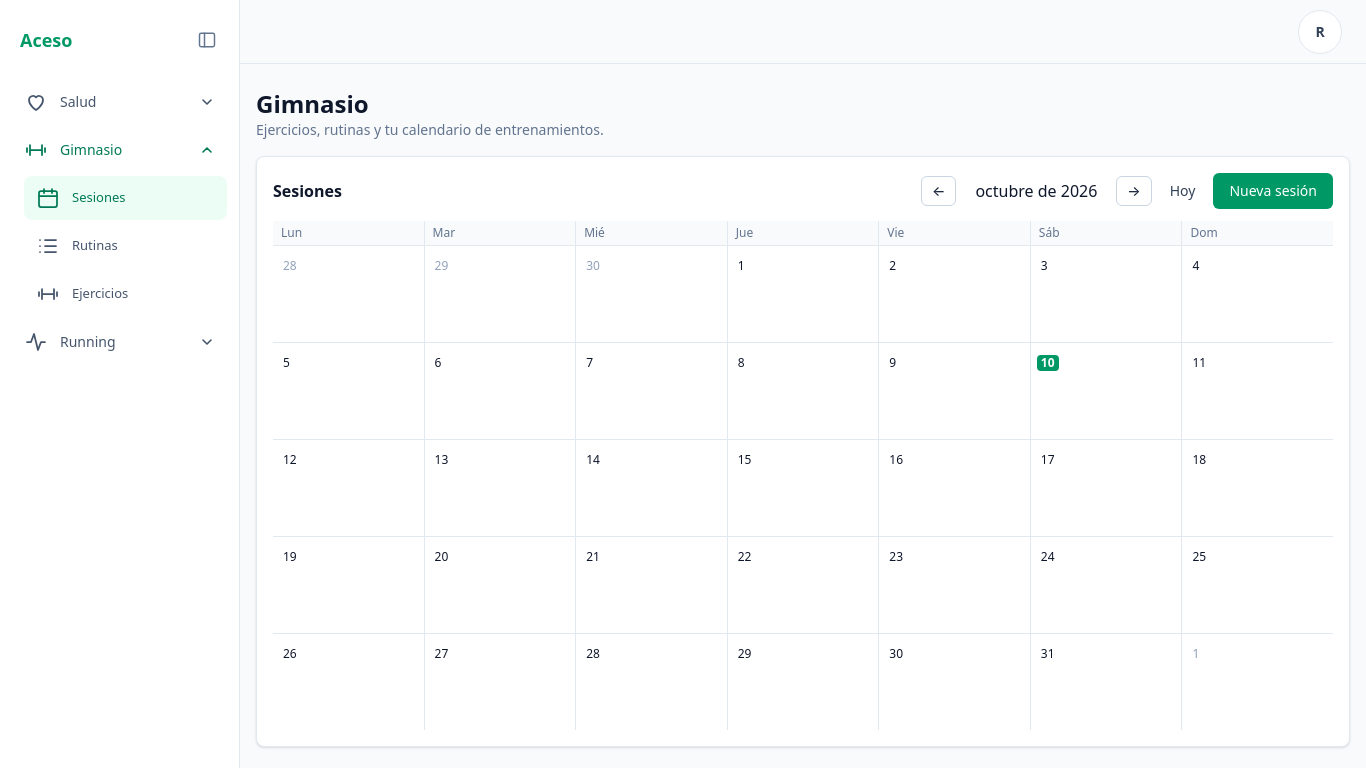
AppShell navigation › expands and collapses other section groups
Click the button "Running".
click(120, 342)  # box [12,320,227,364]
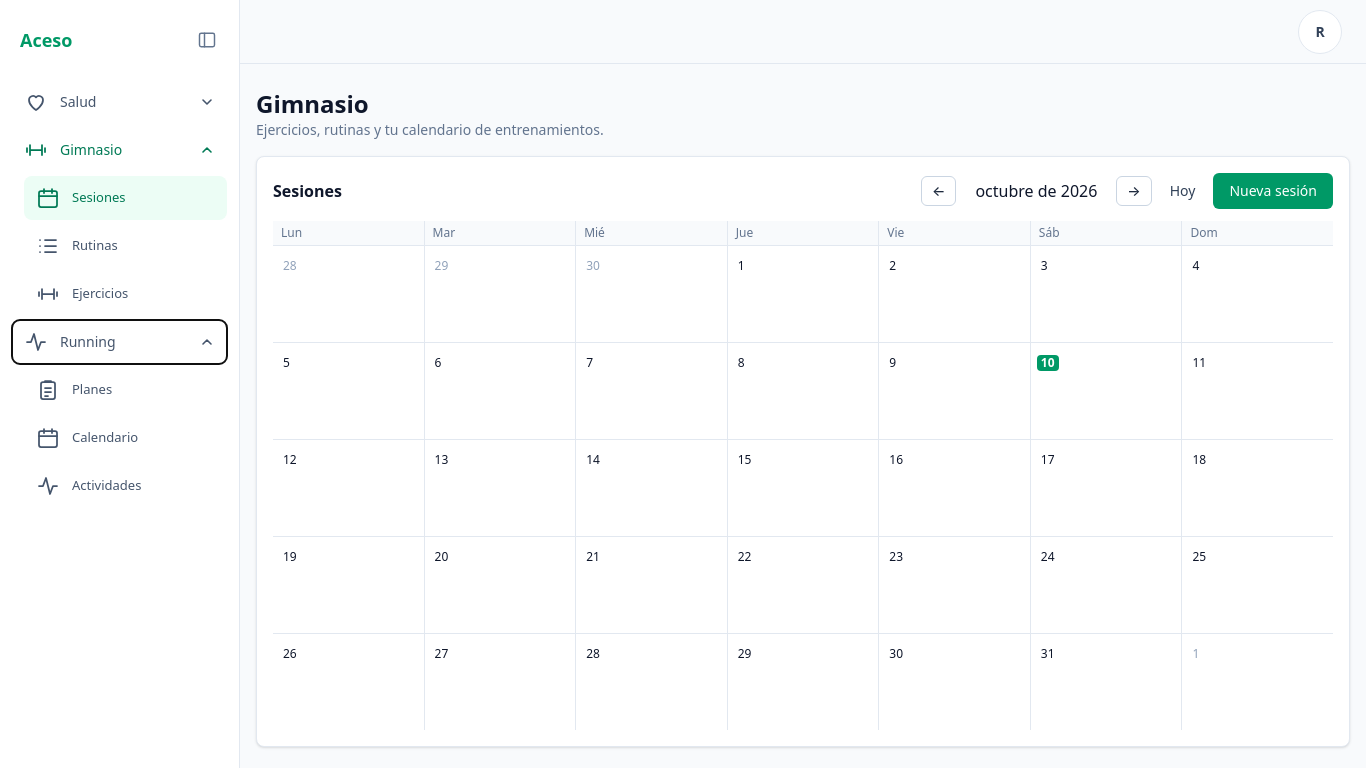
Expected: the link "Sesiones" is shown, [24,176,227,220]
Expected: the button "Running" is expanded
Expected: the link "Planes" is shown, [36,378,112,402]
Click the button "Running".
click(120, 342)  # box [12,320,227,364]
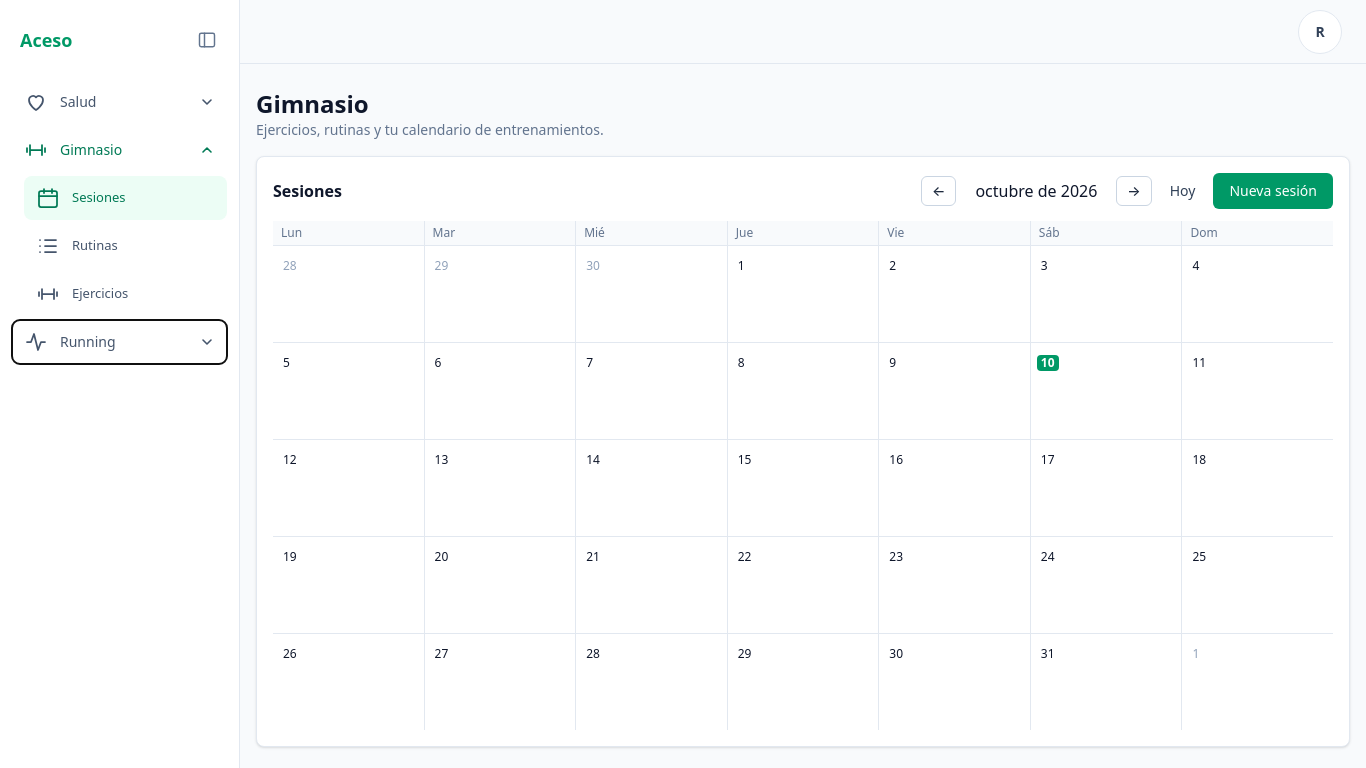
Expected: the button "Running" is collapsed, [12,320,227,364]
Expected: the link "Planes" is gone
